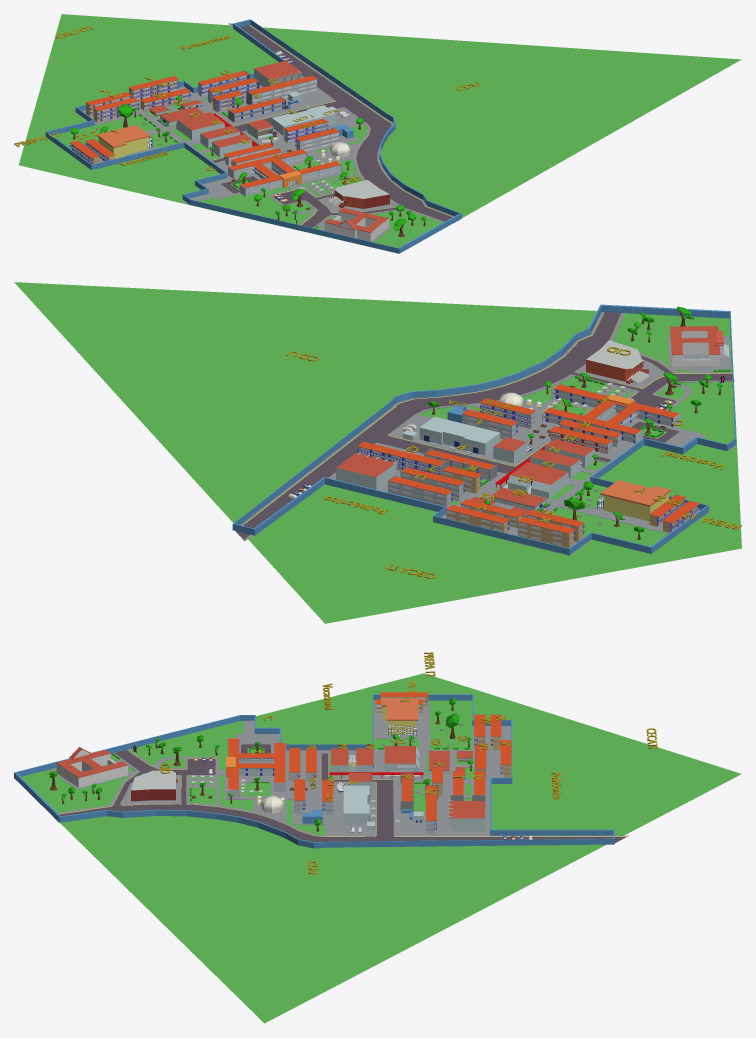
3 renders of one model, top to bottom at view 1: azimuth 30°, elevation 25°; view 2: azimuth 150°, elevation 25°; view 3: azimuth 270°, elevation 25°, orthographic. The views are drawn at different scales.
Visible parts, largest first — view 1: Plane, Plane.001, arboles, Plane.004, Edificio NTLP.018, Chedra.001, Edificio_O.001, Edificio Q2, Edificio_P, Edificio NTLP.017, Edificio_O, Edificio_V (+8 smaller); view 2: Plane, Plane.001, Plane.004, arboles, Chedra.001, Edificio NTLP.018, Edificio Q2, Edificio_O, Edificio_O.001, Edificio_X, Edificio_U, Edificio NTLP.017 (+11 smaller); view 3: Plane, Plane.001, Plane.004, arboles, Chedra.001, Edificio Q2, Edificio_O, Edificio NTLP.018, Edificio NTLP.017.
Boxes of the visible parts, box(x1,y1,x2,y2) form: Plane: box(19, 14, 741, 253); Plane.001: box(148, 91, 389, 208); arboles: box(70, 95, 426, 237); Plane.004: box(324, 208, 388, 241); Edificio NTLP.018: box(239, 160, 342, 196); Chedra.001: box(97, 125, 152, 158); Edificio_O.001: box(246, 75, 317, 104); Edificio Q2: box(254, 60, 301, 87); Edificio_P: box(228, 96, 286, 122); Edificio NTLP.017: box(228, 148, 307, 178); Edificio_O: box(176, 112, 224, 139); Edificio_V: box(128, 76, 179, 100); Plane: box(14, 282, 741, 623); Plane.001: box(402, 340, 648, 517); Plane.004: box(670, 326, 729, 366); arboles: box(428, 306, 722, 539); Chedra.001: box(597, 480, 671, 521); Edificio NTLP.018: box(551, 383, 680, 429); Edificio Q2: box(336, 452, 397, 490); Edificio_O: box(503, 462, 568, 498); Edificio_O.001: box(357, 442, 446, 475); Edificio_X: box(517, 516, 575, 548); Edificio_U: box(388, 475, 452, 508); Edificio NTLP.017: box(542, 407, 642, 443); Plane: box(14, 673, 741, 1023); Plane.001: box(131, 748, 472, 830); Plane.004: box(56, 747, 127, 787); arboles: box(48, 698, 472, 831); Chedra.001: box(381, 698, 418, 736); Edificio Q2: box(448, 800, 484, 831); Edificio_O: box(384, 746, 419, 776); Edificio NTLP.018: box(226, 738, 240, 799); Edificio NTLP.017: box(273, 743, 286, 791).
Bounding box in the file's own units: 93396 × 2966 × 82002.
